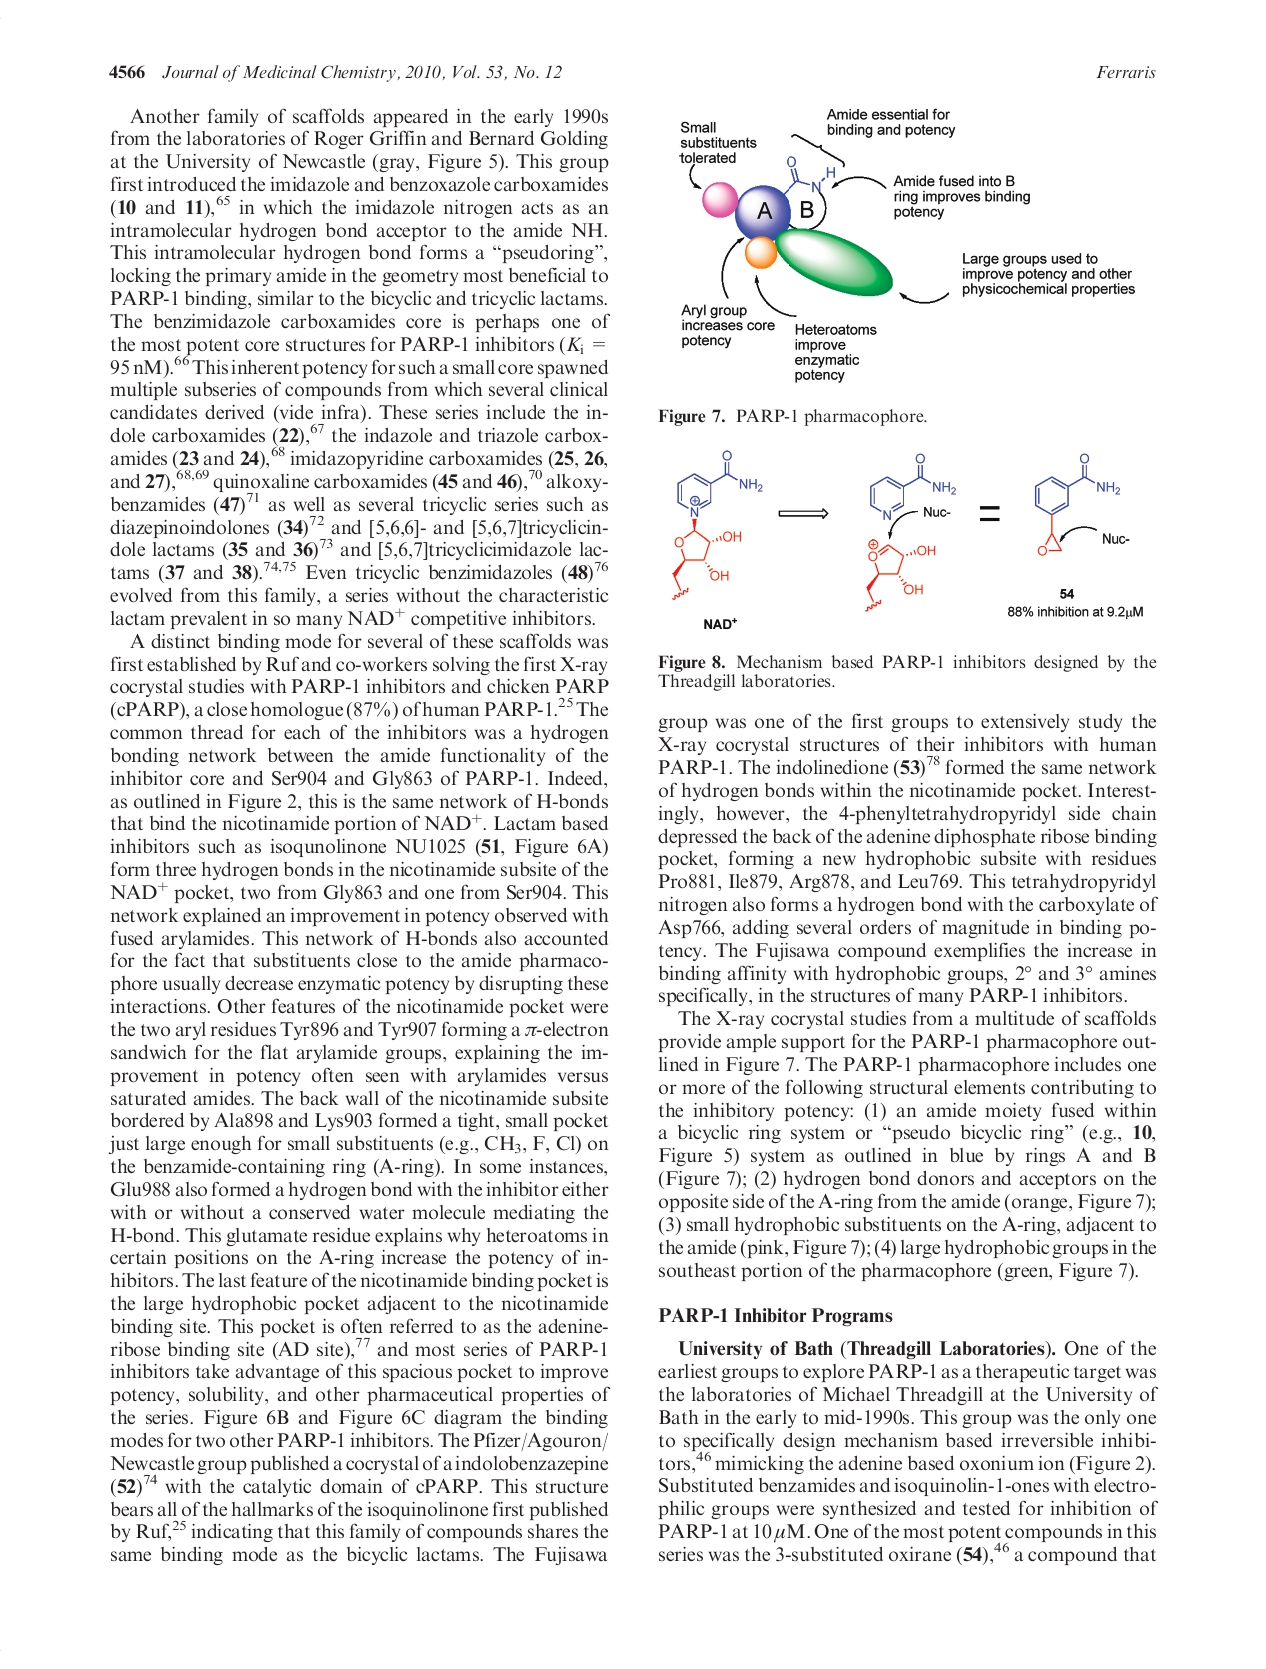exist_molecular: (672, 446, 762, 601), (1033, 452, 1120, 556), (868, 451, 959, 520), (866, 537, 938, 616), (778, 153, 835, 193)
